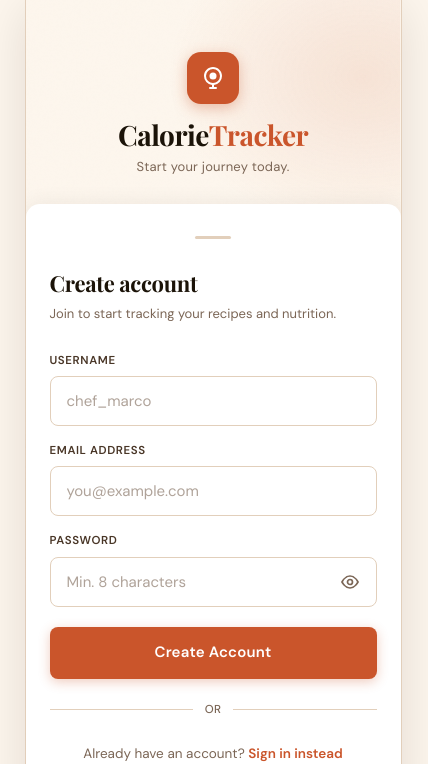
it: RegisterPage — validation › rejects a password shorter than 8 characters
Type "alice" into the field labelled "Username" at (213, 401), box [50, 376, 376, 426]
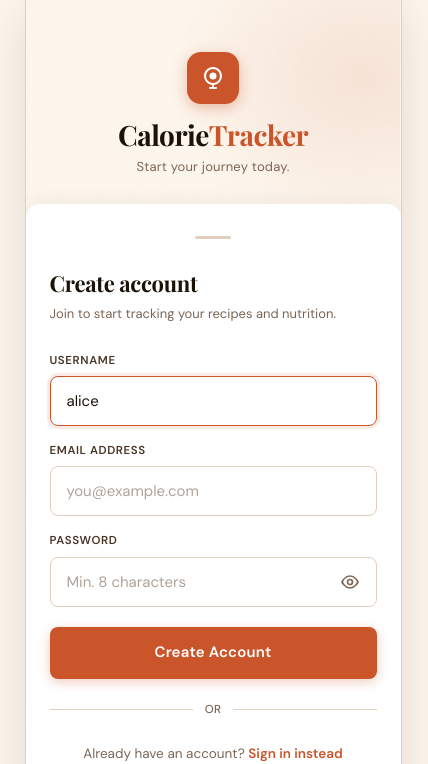
Type "alice@example.com" into the field labelled "Email address" at (213, 491), box [50, 466, 376, 516]
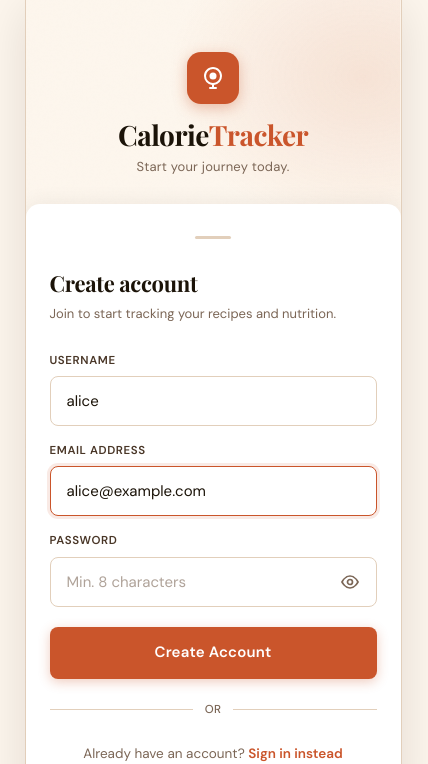
Type "short" into the password field labelled "Password" at (213, 582), box [50, 556, 376, 606]
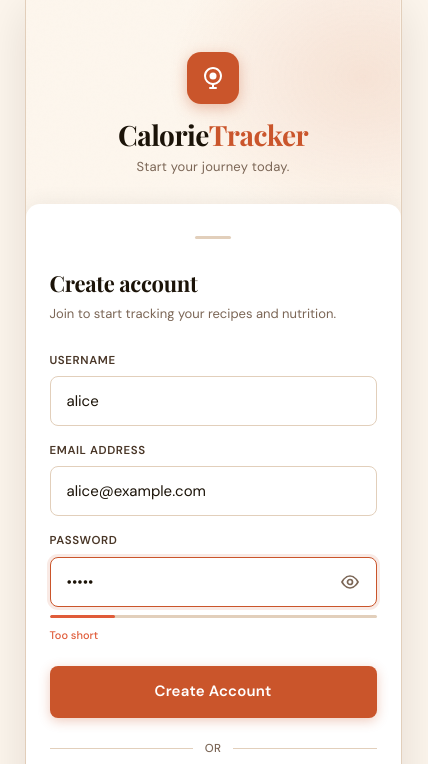
Click the button "Create Account" at (213, 692), box [50, 666, 376, 718]
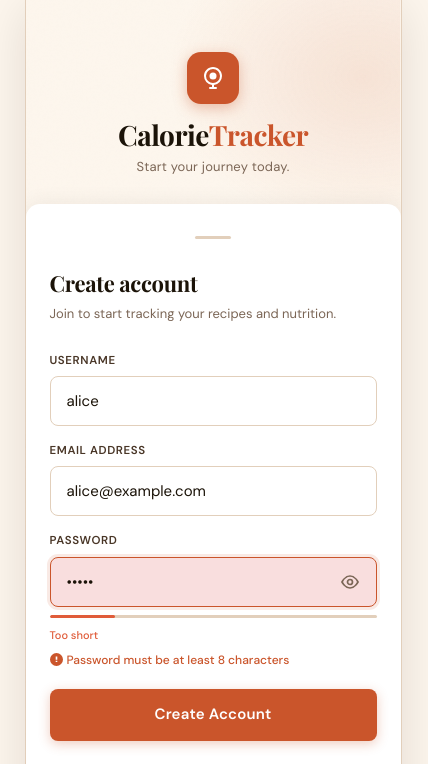
Expected: the text "Password must be at least 8 characters" is shown, [50, 652, 289, 668]
